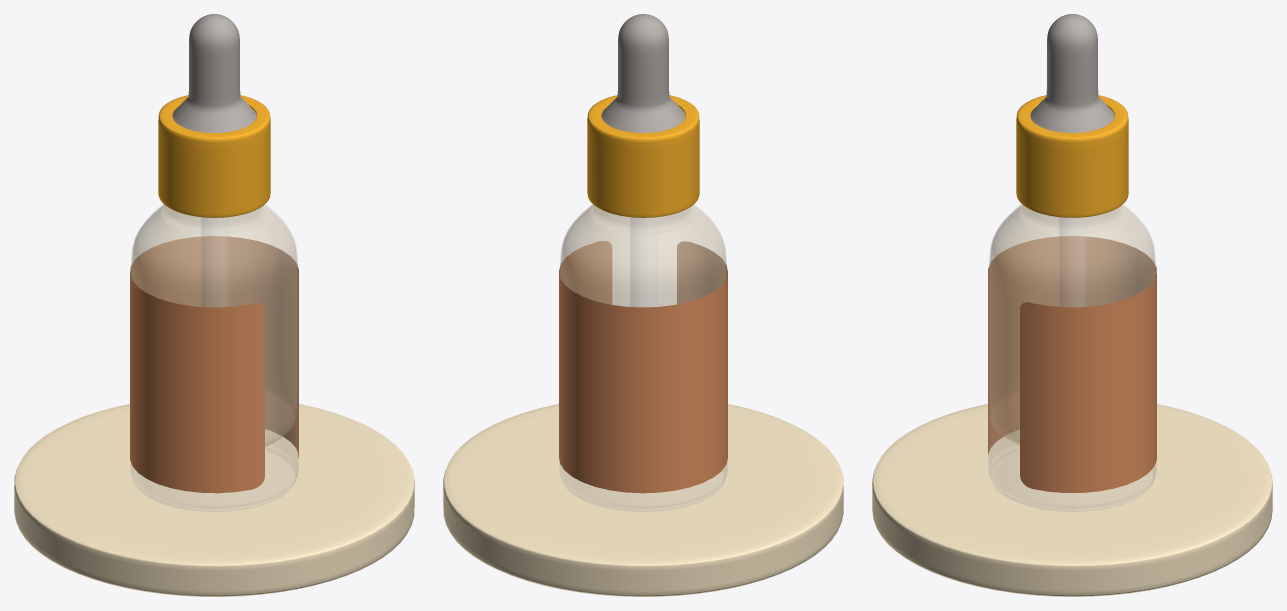
Rendered from beautyOil.gltf.
The picture shows the model from 3 angles, left to right: view 1: azimuth 30°, elevation 25°; view 2: azimuth 150°, elevation 25°; view 3: azimuth 270°, elevation 25°; orthographic projection.
Visible parts, largest first — view 1: stage, label, NEW-bottle, NEW-oil, metal_cap, plastic_cap, pipette; view 2: stage, label, NEW-bottle, NEW-oil, metal_cap, plastic_cap, pipette; view 3: stage, label, NEW-bottle, NEW-oil, metal_cap, plastic_cap, pipette.
Part boxes in pixels (x1,y1,x2,y2): stage: [14, 404, 414, 596]; label: [130, 236, 298, 493]; NEW-bottle: [130, 204, 298, 511]; NEW-oil: [132, 205, 296, 446]; metal_cap: [158, 95, 270, 217]; plastic_cap: [172, 14, 256, 132]; pipette: [201, 218, 227, 306]; stage: [443, 404, 843, 596]; label: [559, 241, 727, 493]; NEW-bottle: [559, 204, 727, 511]; NEW-oil: [561, 205, 725, 306]; metal_cap: [587, 95, 699, 217]; plastic_cap: [601, 14, 685, 132]; pipette: [630, 218, 656, 306]; stage: [872, 404, 1272, 596]; label: [988, 236, 1156, 492]; NEW-bottle: [988, 204, 1156, 511]; NEW-oil: [990, 205, 1154, 445]; metal_cap: [1016, 95, 1128, 217]; plastic_cap: [1030, 14, 1114, 132]; pipette: [1059, 217, 1085, 306].
Size of the model in its own units: 2.89 by 3.96 by 2.89.
